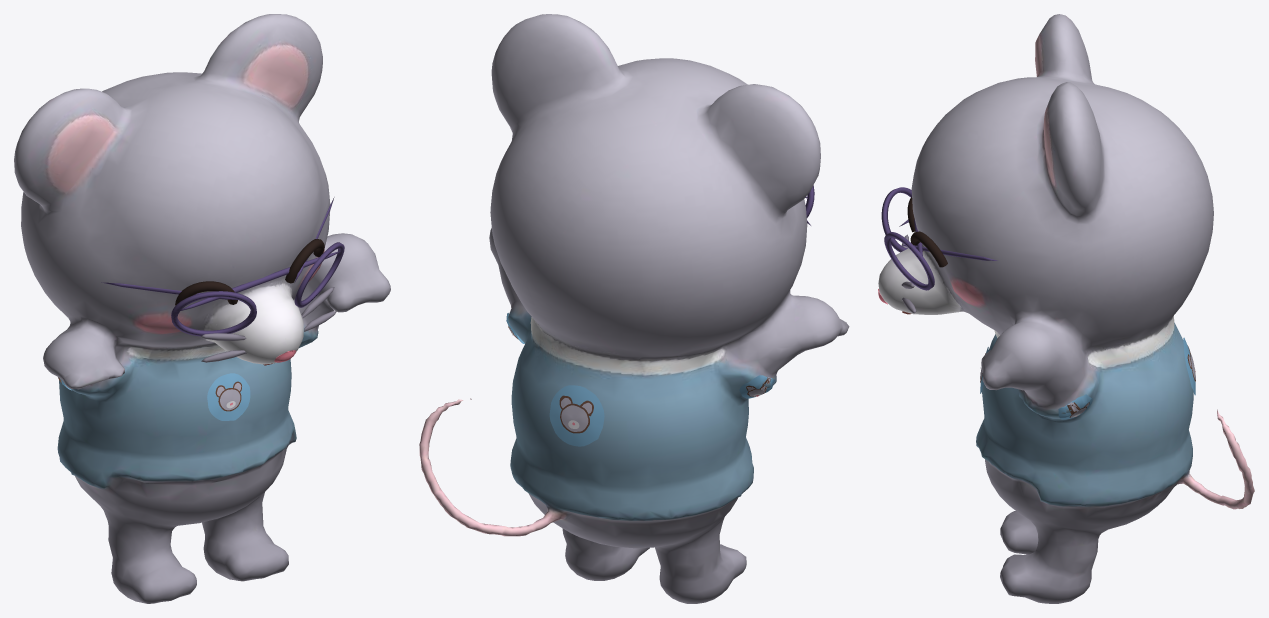
The model's file is mouse-pose.glb.
The picture shows the model from 3 angles, left to right: view 1: azimuth 30°, elevation 25°; view 2: azimuth 150°, elevation 25°; view 3: azimuth 270°, elevation 25°; orthographic projection. The views are drawn at different scales.
Visible parts, largest first — view 1: chibi, face; view 2: chibi, face; view 3: chibi, face.
Boxes of the visible parts, x1,y1,x2,y2 form: chibi: (14, 14, 390, 603); face: (58, 197, 344, 420); chibi: (419, 14, 849, 603); face: (506, 185, 814, 446); chibi: (878, 14, 1254, 603); face: (878, 187, 1195, 419).
Bounding box in the file's own units: 0.8432 × 1.3 × 0.8422.
31 materials, 1 textured.
